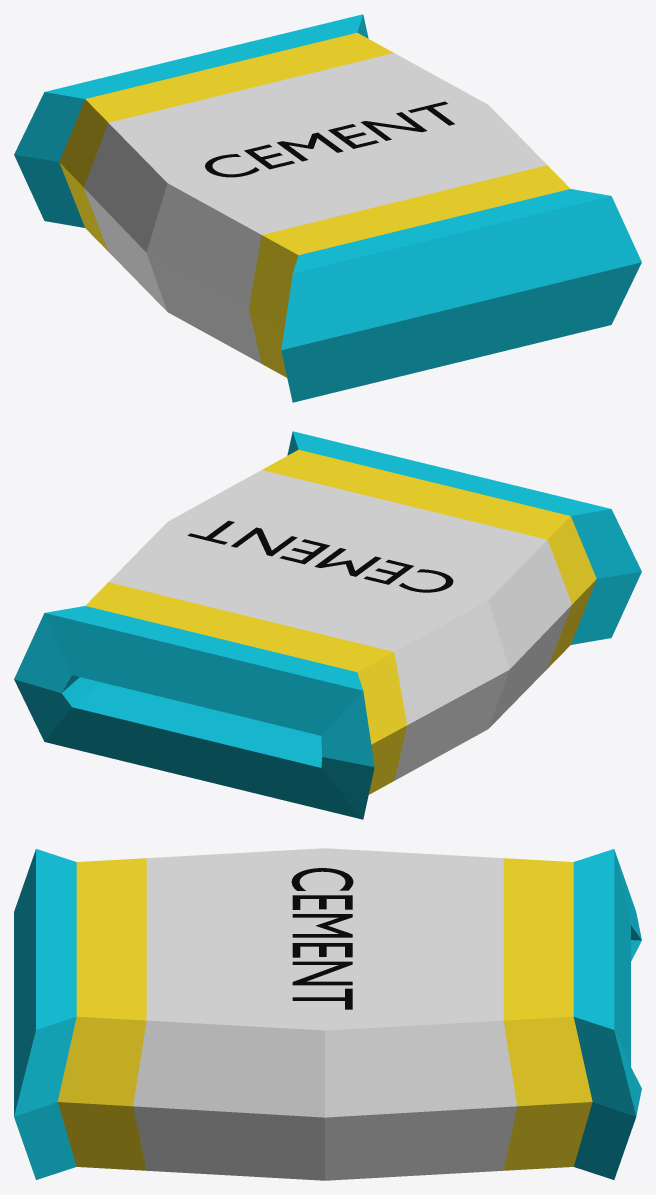
File: cement.fbx
3 renders of one model, top to bottom at view 1: azimuth 30°, elevation 25°; view 2: azimuth 150°, elevation 25°; view 3: azimuth 270°, elevation 25°, orthographic. The views are drawn at different scales.
Visible parts, largest first — view 1: Plane.119; view 2: Plane.119; view 3: Plane.119.
Boxes of the visible parts, x1,y1,x2,y2 form: Plane.119: [14, 14, 641, 402]; Plane.119: [14, 431, 641, 819]; Plane.119: [14, 848, 641, 1180].
Size of the model in its own units: 96.72 by 33.47 by 124.
